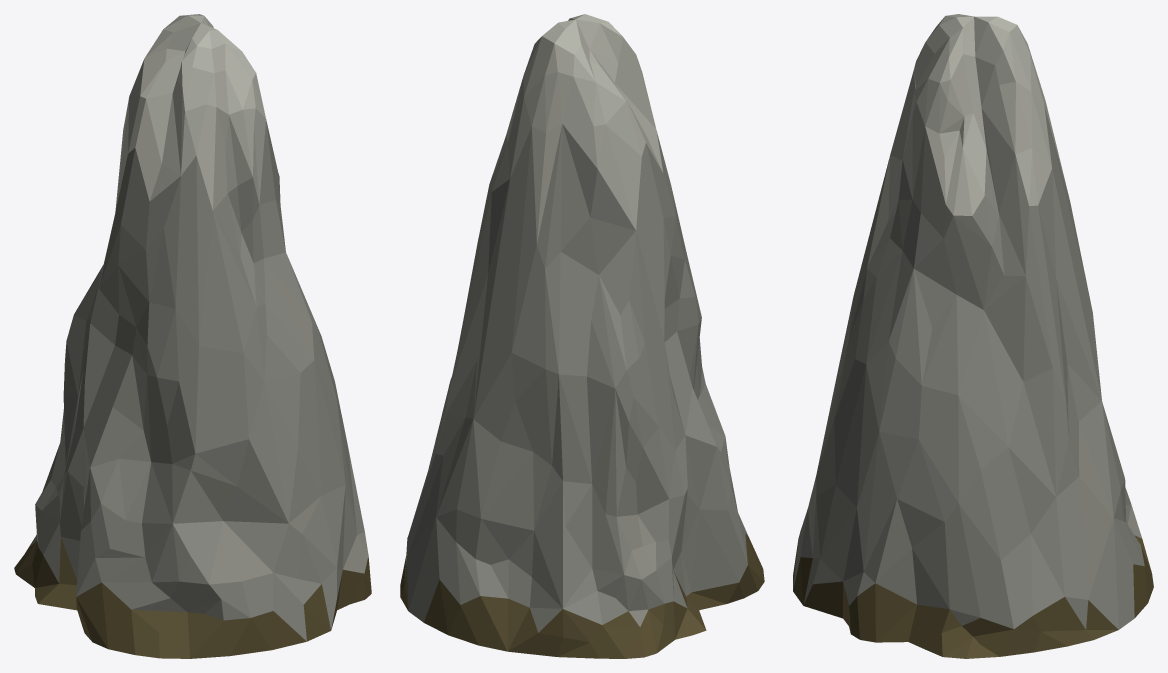
The model's file is Mountain4.gltf.
The picture shows the model from 3 angles, left to right: view 1: azimuth 30°, elevation 25°; view 2: azimuth 150°, elevation 25°; view 3: azimuth 270°, elevation 25°; orthographic projection.
Visible parts, largest first — view 1: MountainLarge_Single; view 2: MountainLarge_Single; view 3: MountainLarge_Single.
Boxes of the visible parts, bbox=[...] form: MountainLarge_Single: bbox=[14, 14, 371, 658]; MountainLarge_Single: bbox=[400, 14, 764, 658]; MountainLarge_Single: bbox=[793, 14, 1153, 658].
Bounding box in the file's own units: 1.08 × 1.91 × 1.1.
